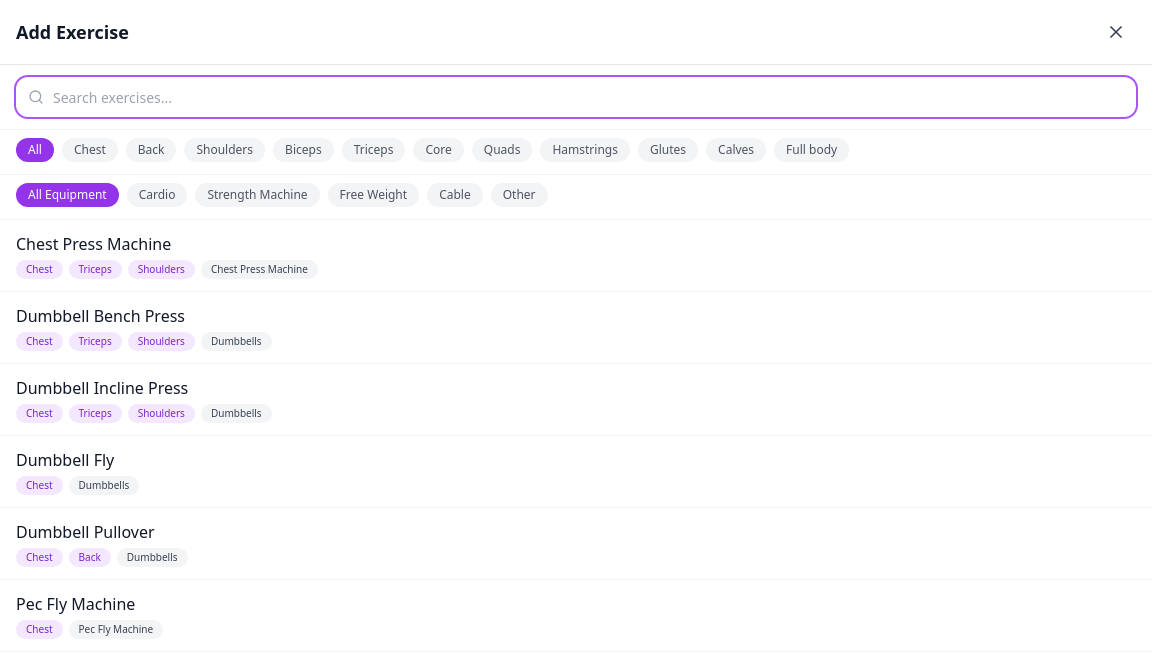
Test: ExercisePicker — search › filters by name match
The width and height of the screenshot is (1152, 653).
In the field with placeholder "Search exercises...": (576,97) [16,77,1136,117], type "treadmill"
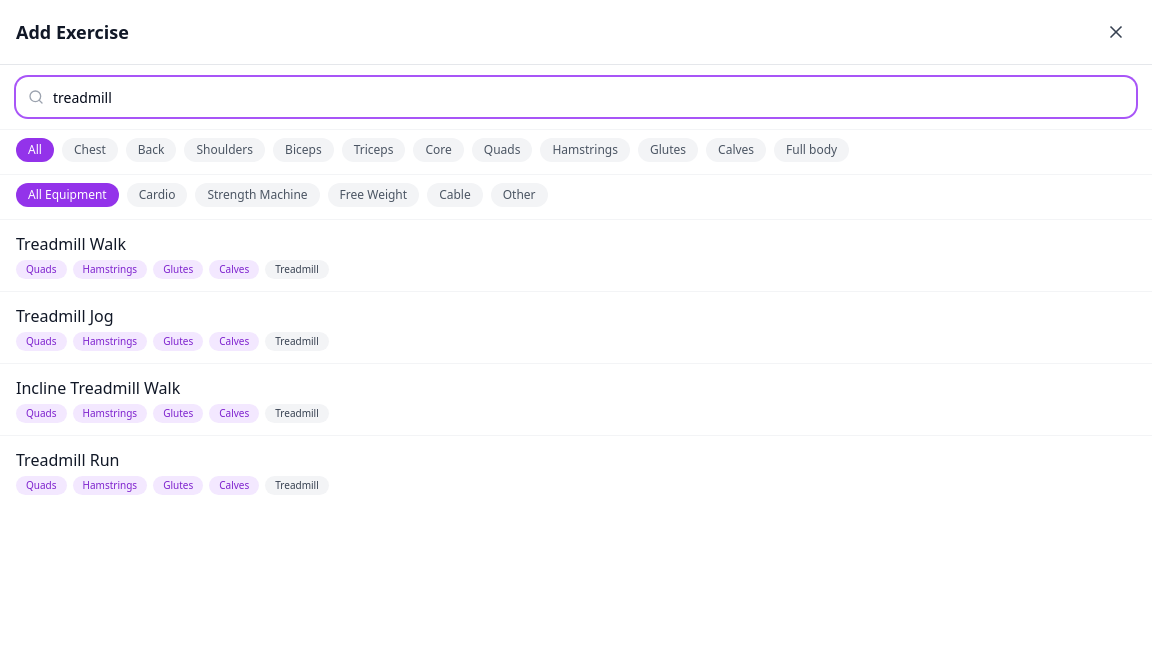
Now the text "Treadmill Walk" is shown, box [16,232,126,256]
Now the text "Treadmill Run" is shown, box [16,448,120,472]
